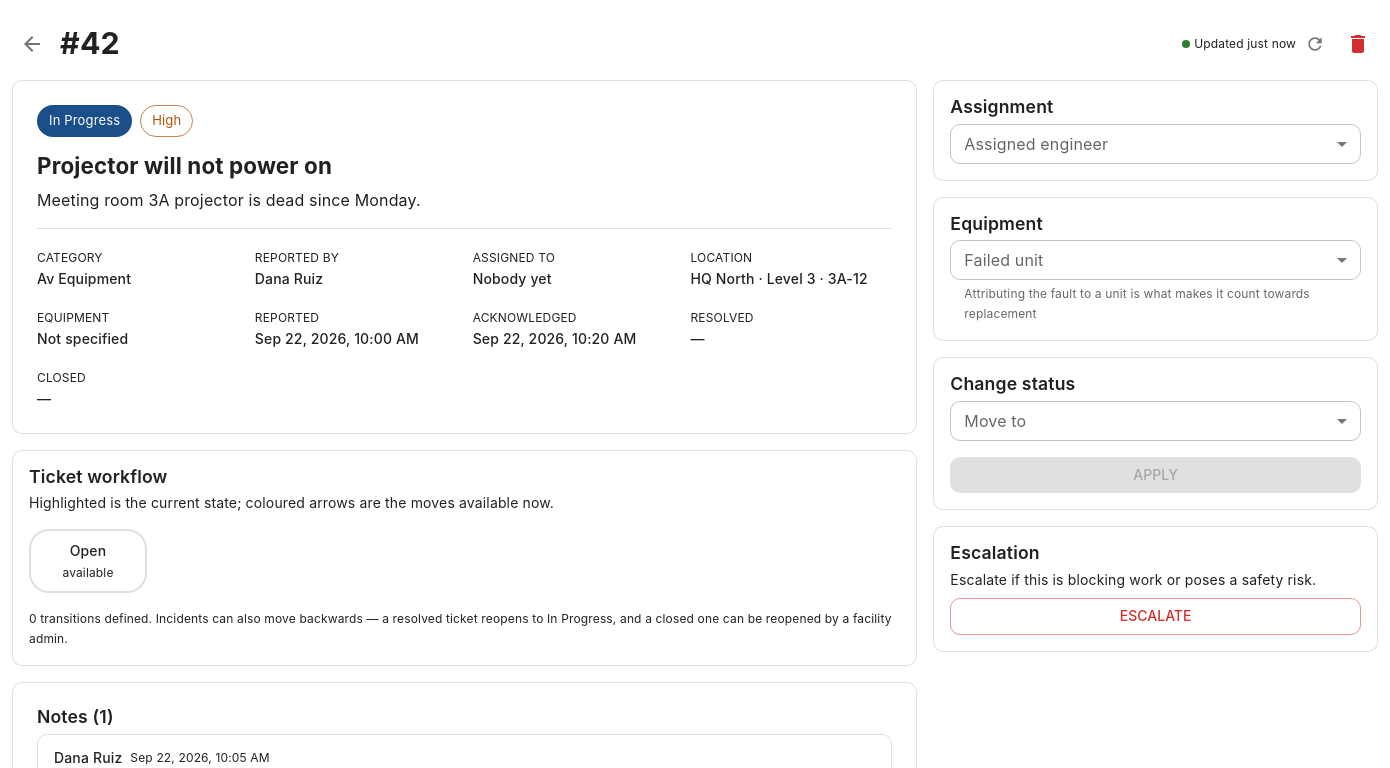
Test: assignment › offers the engineers who specialise in the incident first
Check: the heading "Assignment" is shown, box [950, 96, 1053, 117]
Click the dropdown next to "Assigned engineer". click: (1156, 144)
box: [950, 124, 1361, 164]
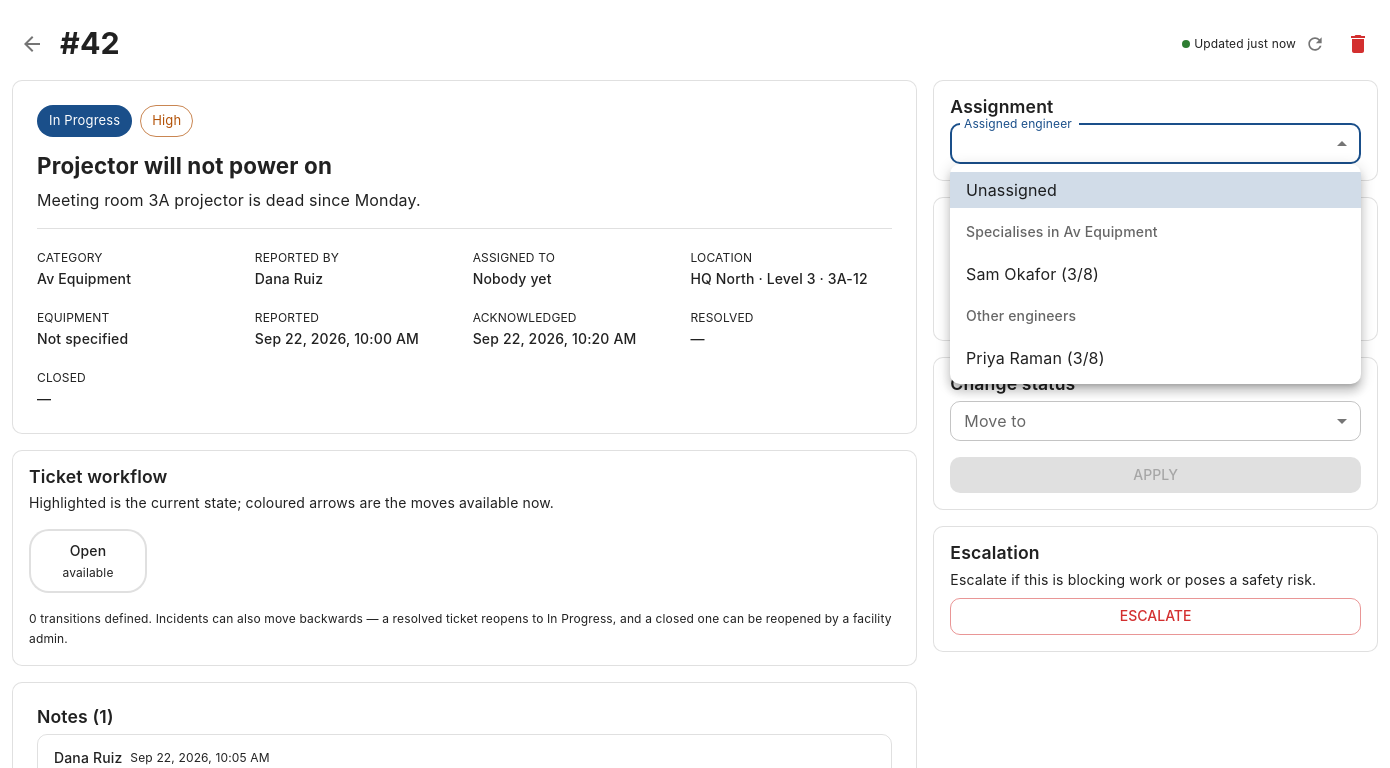
Check: the option "Priya Raman (3/8)" does not show "specialises in", box [966, 348, 1105, 368]
Check: the list item "Specialises in Av Equipment" is shown, box [966, 223, 1158, 240]
Check: the list item "Other engineers" is shown, box [966, 307, 1076, 324]
